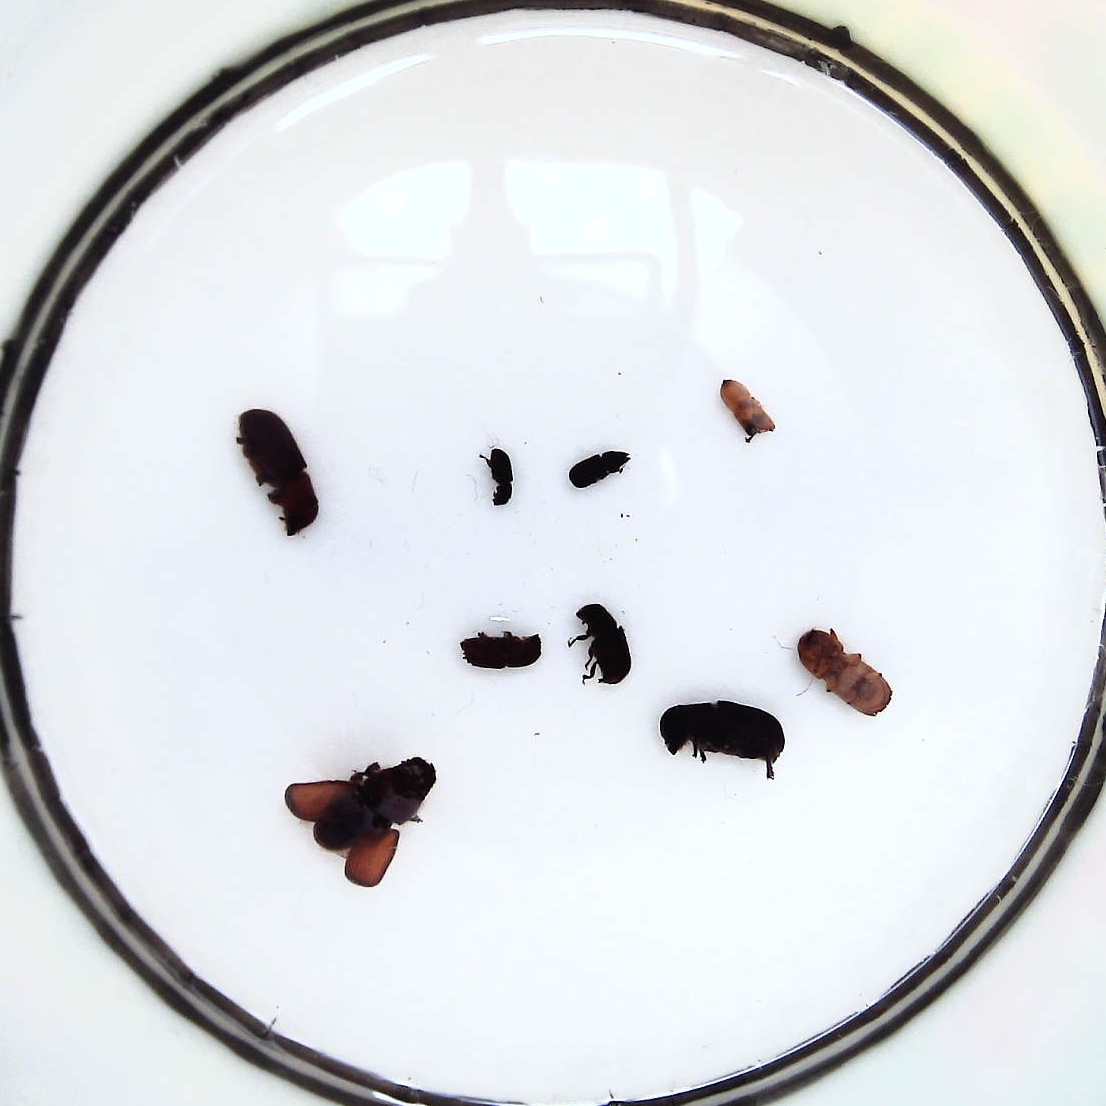Leconte: (282, 757, 434, 888), (239, 409, 319, 538), (660, 701, 786, 766)
acuminatus: (569, 450, 631, 487), (489, 448, 513, 506)
armandi: (576, 603, 632, 685)
coleoptera: (719, 378, 776, 437)
linnaeus: (799, 630, 892, 719), (460, 632, 542, 670)
